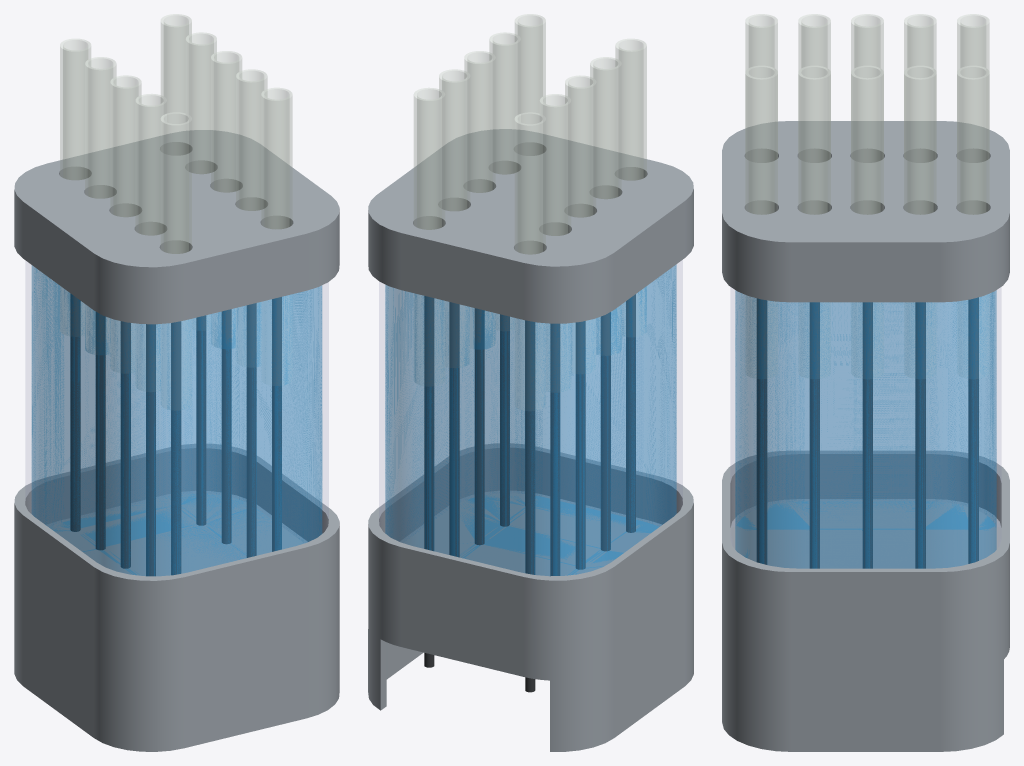
The model's file is cell.gltf.
3 renders of one model, left to right at view 1: azimuth 30°, elevation 25°; view 2: azimuth 150°, elevation 25°; view 3: azimuth 270°, elevation 25°, orthographic. The views are drawn at different scales.
Visible parts, largest first — view 1: lower_Body, wall, electrolyte, upper_Body, tubes, electrodes; view 2: wall, electrolyte, lower_Body, upper_Body, tubes, electrodes; view 3: lower_Body, wall, electrolyte, upper_Body, tubes, electrodes.
Boxes of the visible parts, x1,y1,x2,y2 form: lower_Body: (14, 444, 339, 751); wall: (26, 261, 328, 575); electrolyte: (31, 265, 322, 576); upper_Body: (14, 130, 339, 324); tubes: (60, 14, 292, 253); electrodes: (70, 294, 281, 576); wall: (379, 260, 682, 575); electrolyte: (385, 265, 676, 575); lower_Body: (368, 443, 693, 751); upper_Body: (368, 129, 693, 323); tubes: (414, 14, 646, 254); electrodes: (424, 294, 635, 692); lower_Body: (722, 451, 1009, 751); wall: (731, 288, 1000, 567); electrolyte: (735, 290, 996, 568); upper_Body: (722, 121, 1009, 302); tubes: (745, 14, 989, 214); electrodes: (756, 297, 978, 568).
Size of the model in its own units: 0.087 by 0.215 by 0.087.
